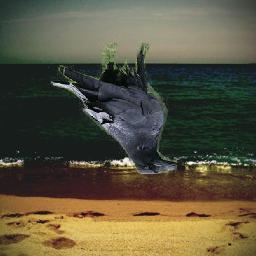Crow: (51, 44, 178, 175)
